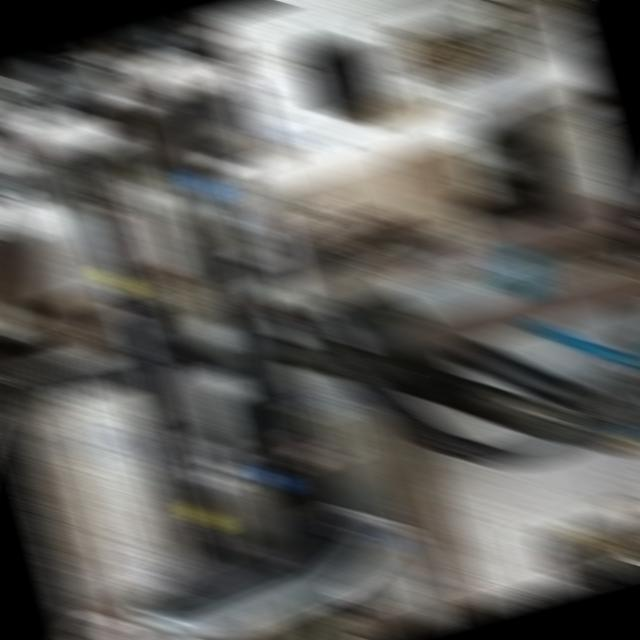blue: (185, 174, 226, 198), (254, 465, 293, 488)
yellow: (186, 504, 223, 528), (98, 268, 136, 291)
